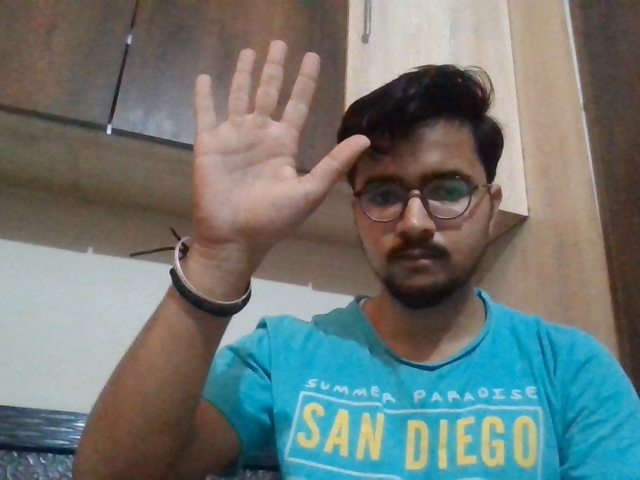hello: (177, 36, 372, 246)
